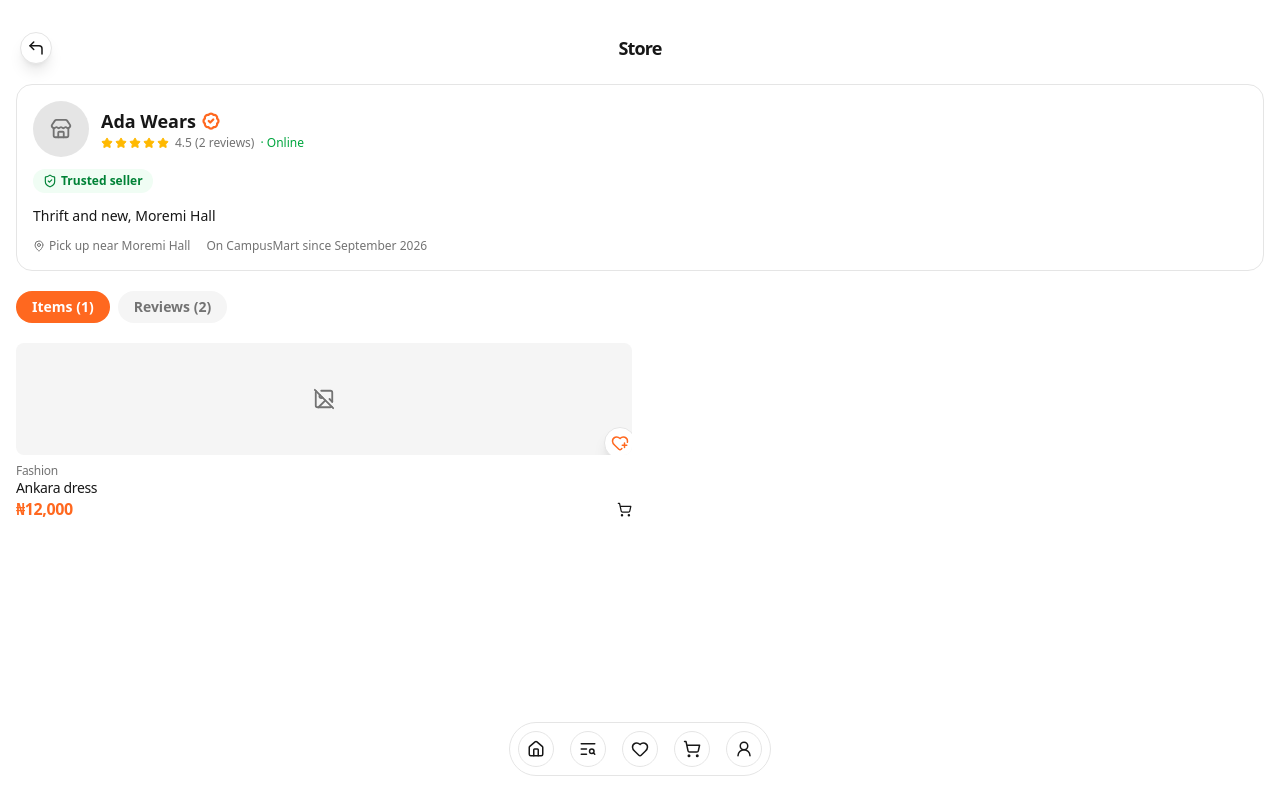
Test case: Store page (guide 8.2) › shows the store, its trusted badge and area, its items and its reviews
Check: the heading "Ada Wears" is shown, box [101,107,196,135]
Check: the text "Trusted seller" is shown, box [33,169,153,193]
What coordinates should you click on to do the following:
click the tab "Reviews (2)"
I would click on:
 (172, 307)
Its box is [118,291,227,323].
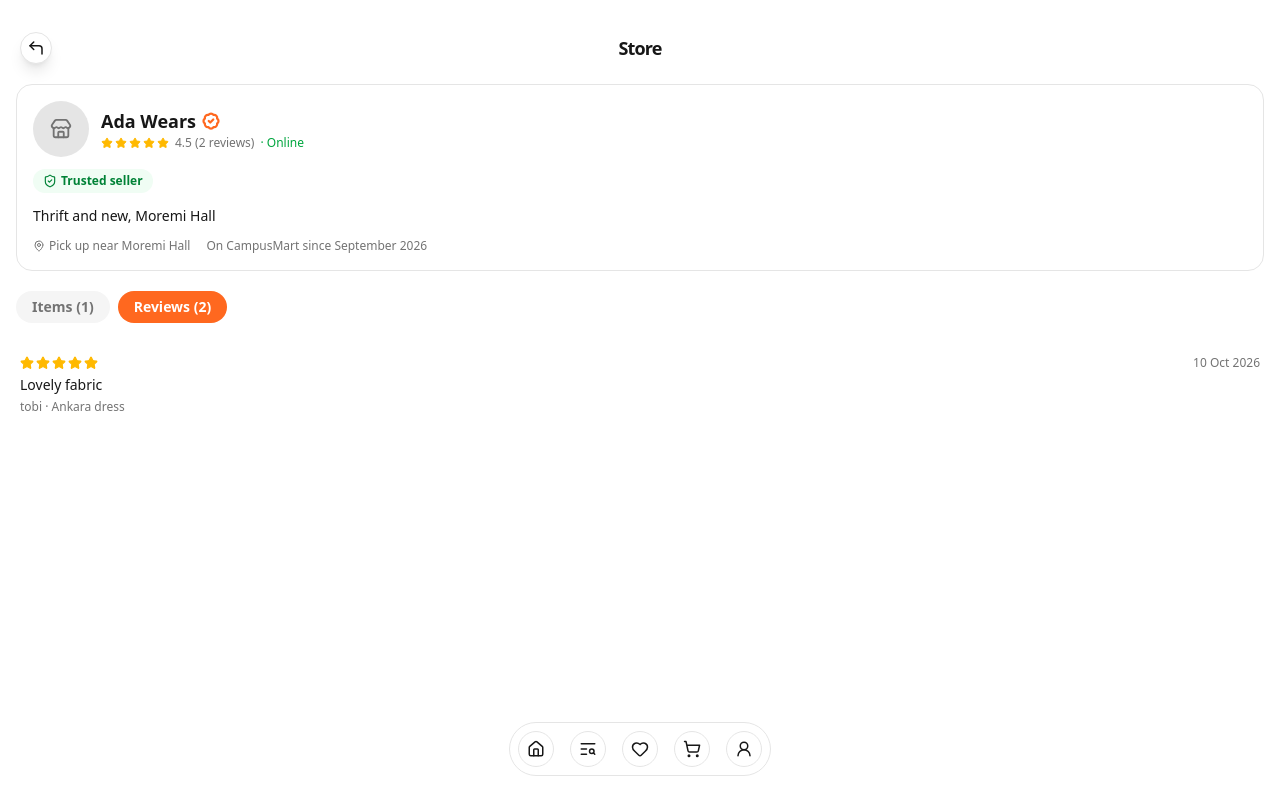
Check: the text "Lovely fabric" is shown, box [20,375,102,394]
Check: the text "tobi · Ankara dress" is shown, box [20,398,125,415]
